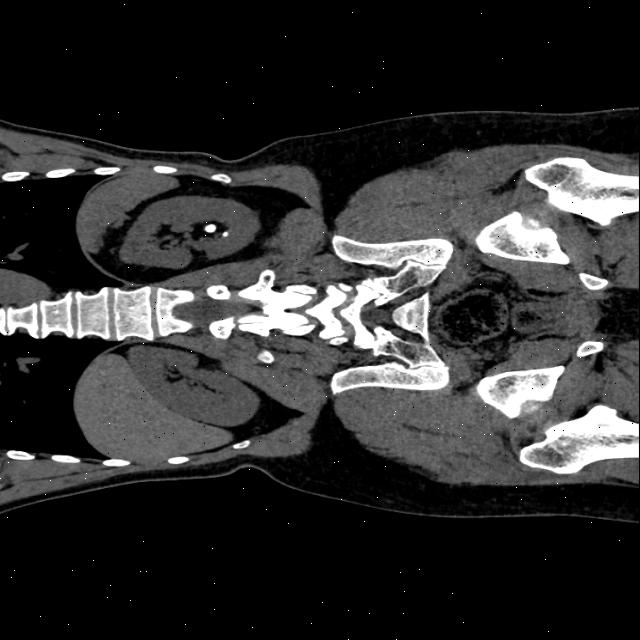kidneystone: (204, 222, 216, 232), (221, 231, 228, 236)
